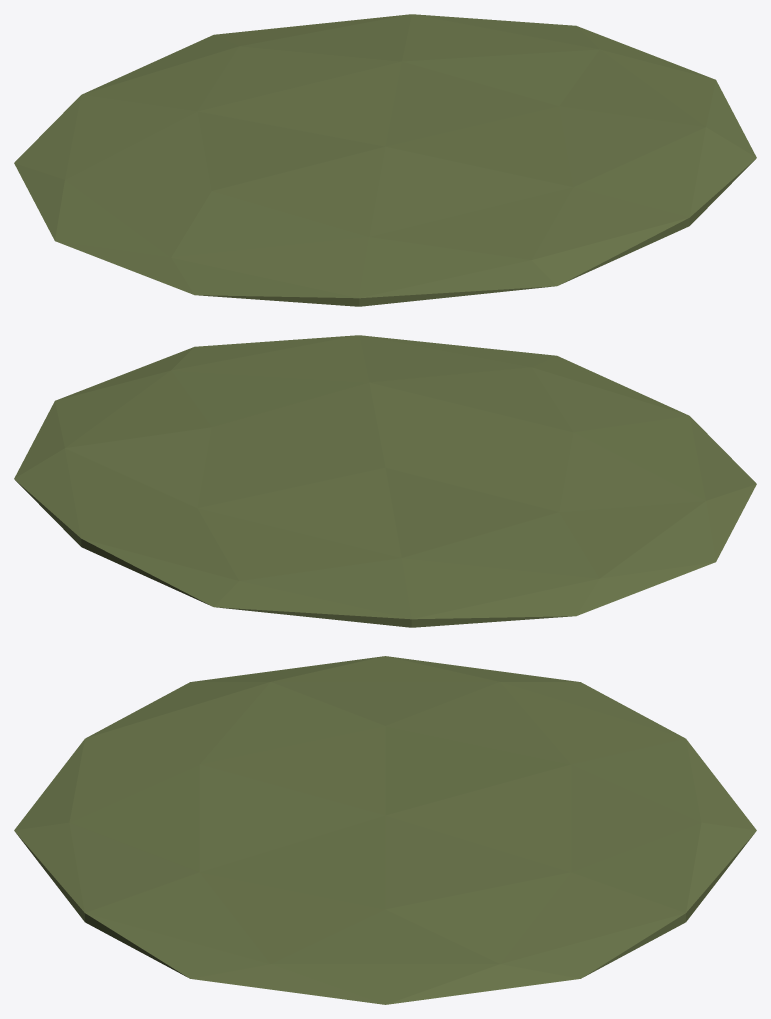
The model's file is green_plain.glb.
3 renders of one model, top to bottom at view 1: azimuth 30°, elevation 25°; view 2: azimuth 150°, elevation 25°; view 3: azimuth 270°, elevation 25°, orthographic. The views are drawn at different scales.
Visible parts, largest first — view 1: world-scenery/green_plain; view 2: world-scenery/green_plain; view 3: world-scenery/green_plain.
Part boxes in pixels (x1,y1,x2,y2): world-scenery/green_plain: (14,14,756,306); world-scenery/green_plain: (14,335,756,627); world-scenery/green_plain: (14,656,756,1004).
Size of the model in its own units: 6 by 0.24 by 5.4.
